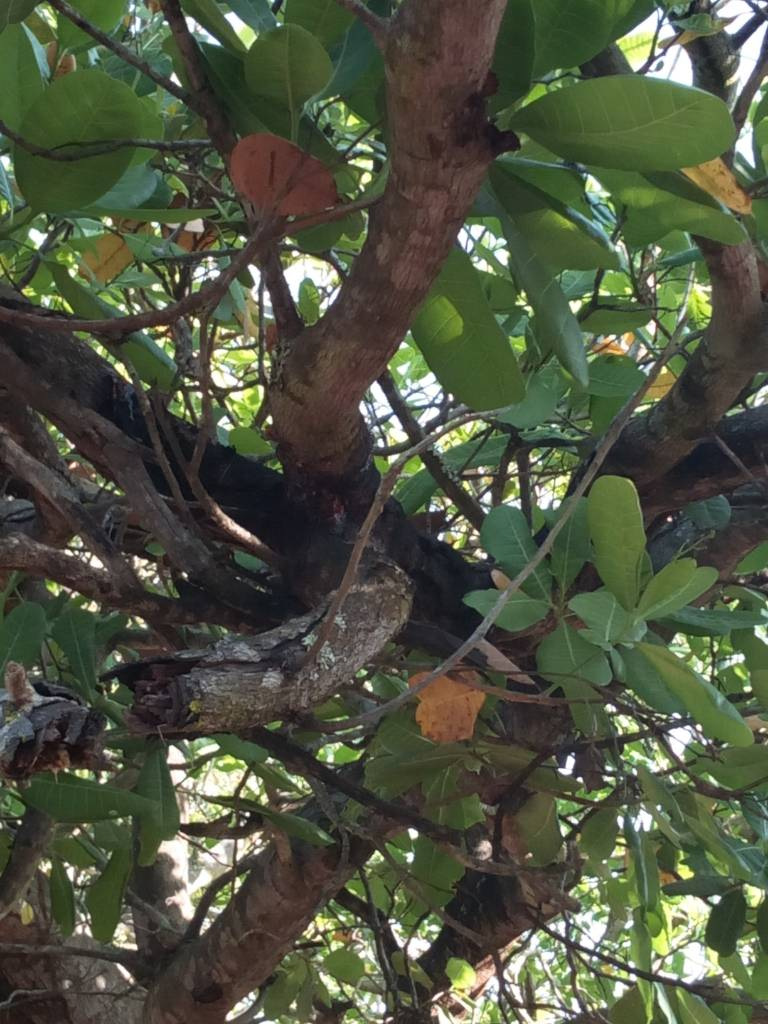Gommose: (105, 396, 305, 542), (350, 463, 483, 608)
